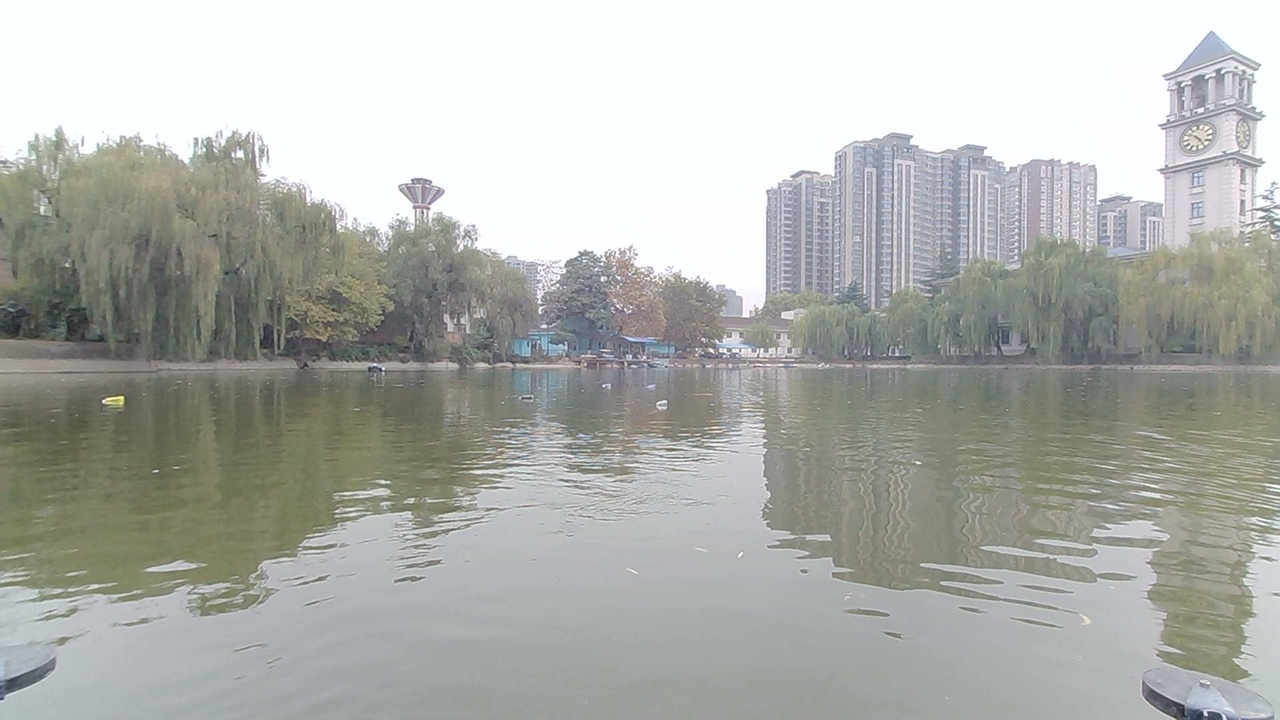bottle: (96, 391, 138, 415), (513, 386, 543, 408), (644, 390, 674, 411), (640, 370, 673, 387), (598, 374, 620, 393)
